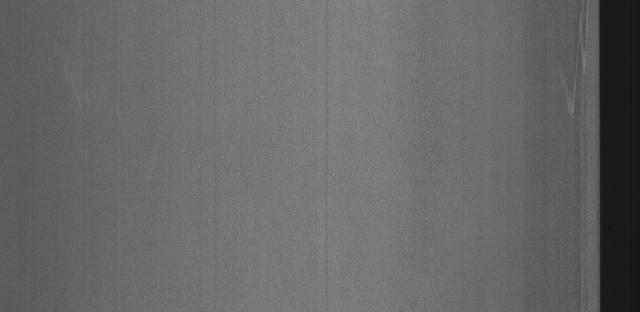silk_spot: (557, 4, 594, 120)
